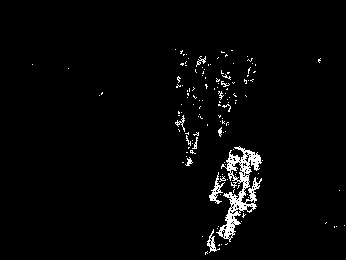person: (177, 87, 205, 167), (216, 70, 235, 136)
